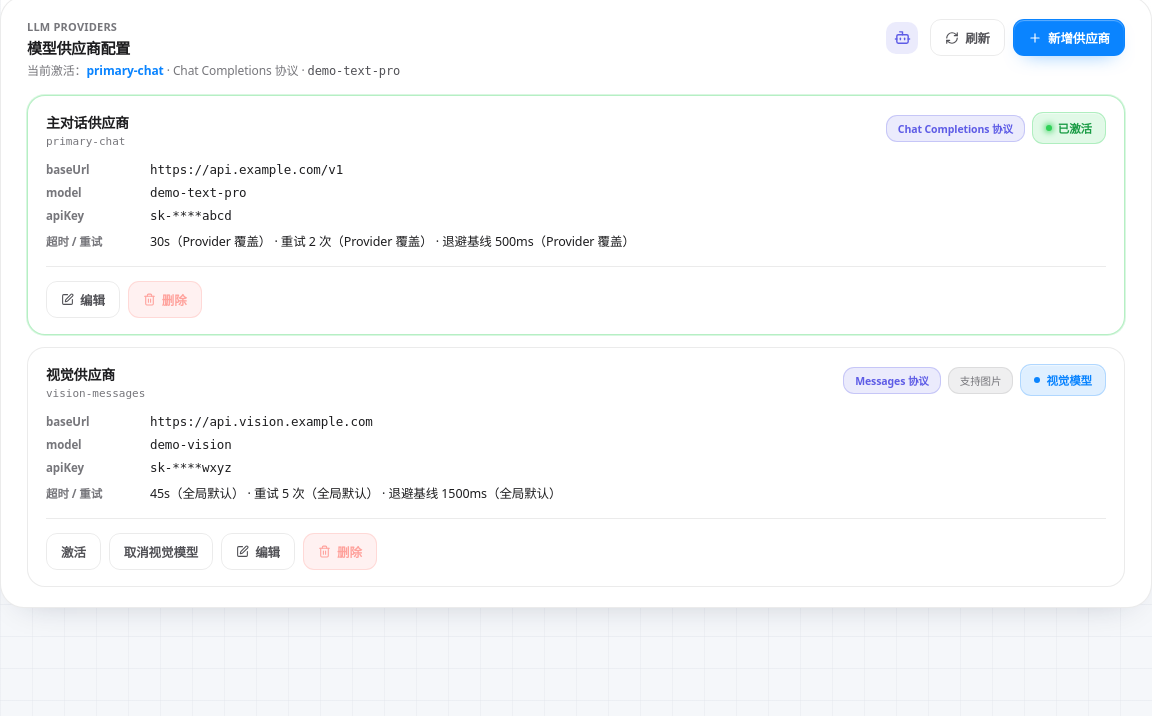
Test: LlmProvidersFeature › editing any field after a successful test invalidates the approval
Click the button "编辑" below "30" at (83, 300), box 46,281 -> 120,318
(page scrolled)
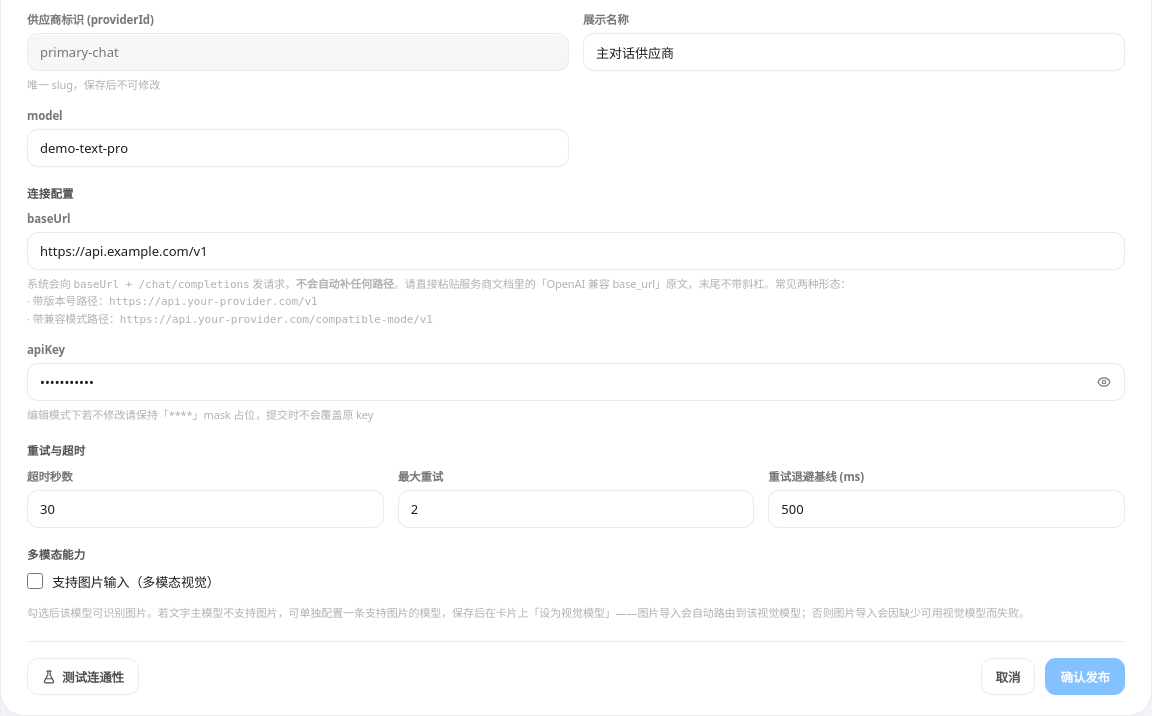
Click the button "测试连通性" at (83, 676), box 27,658 -> 139,695
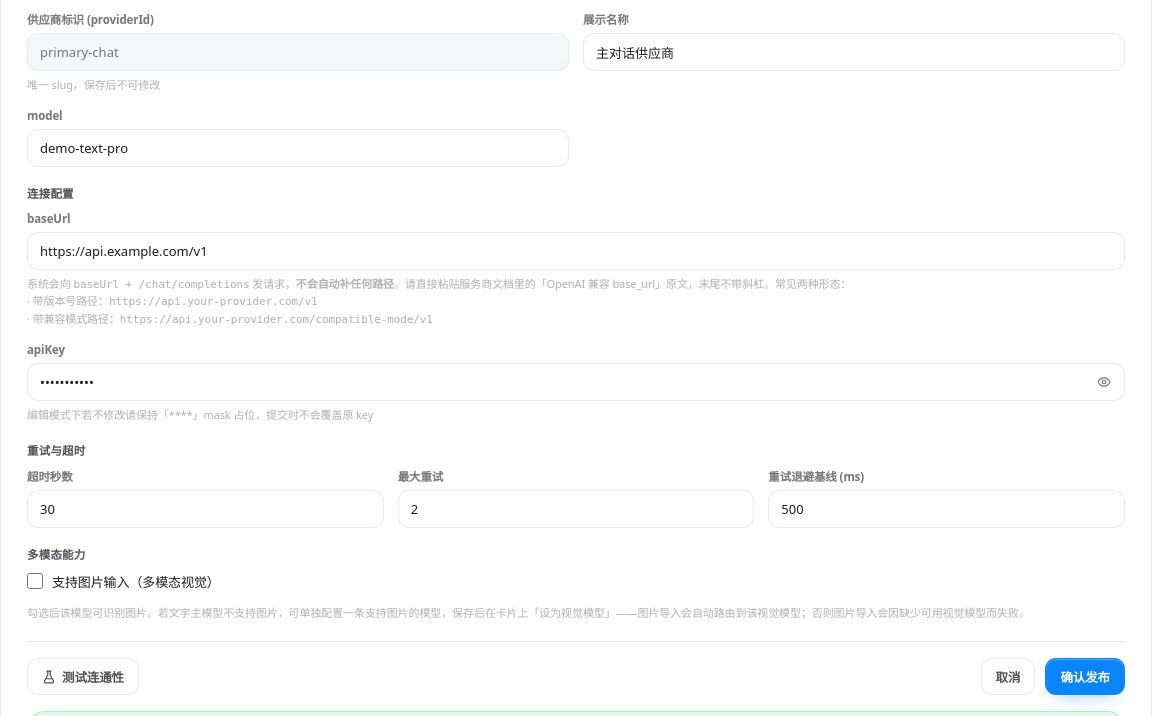
Type " changed" into the field labelled "展示名称" at (854, 52), box 583,33 -> 1125,71
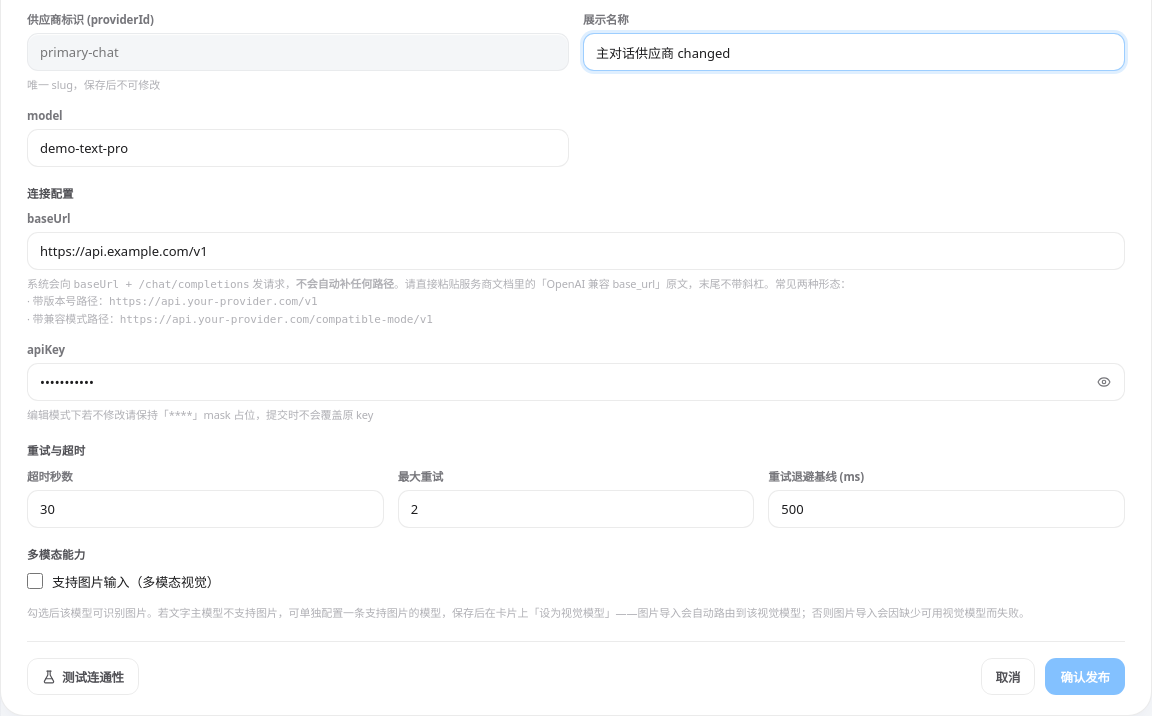
Expected: the button "确认发布" is disabled, 1045,658 -> 1125,695
